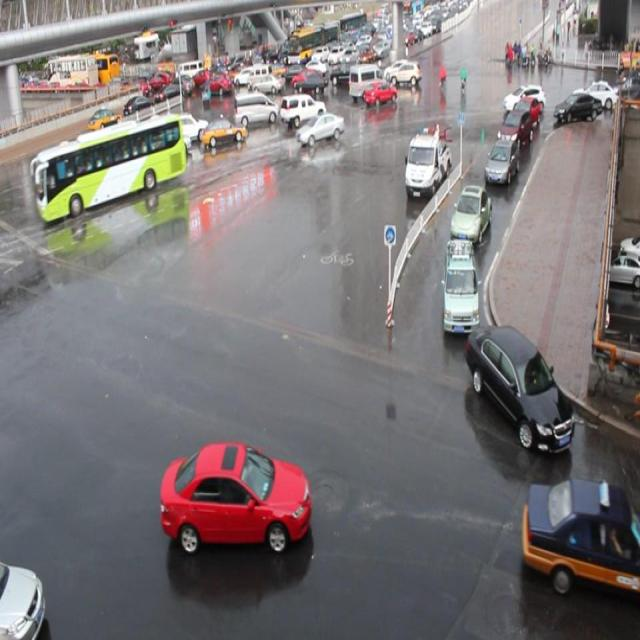bus: (403, 129, 450, 202)
car: (160, 439, 312, 552), (521, 475, 640, 600), (466, 322, 574, 452), (1, 557, 46, 640), (441, 237, 479, 332), (448, 184, 491, 244), (199, 112, 247, 150), (45, 148, 97, 183), (144, 126, 192, 160), (482, 138, 517, 184), (280, 92, 325, 127), (166, 108, 209, 144), (297, 112, 344, 144), (495, 108, 530, 146), (113, 129, 153, 158), (517, 94, 543, 132), (363, 81, 397, 107)
truck: (235, 92, 278, 125), (348, 63, 384, 98)
van: (36, 115, 185, 222)
